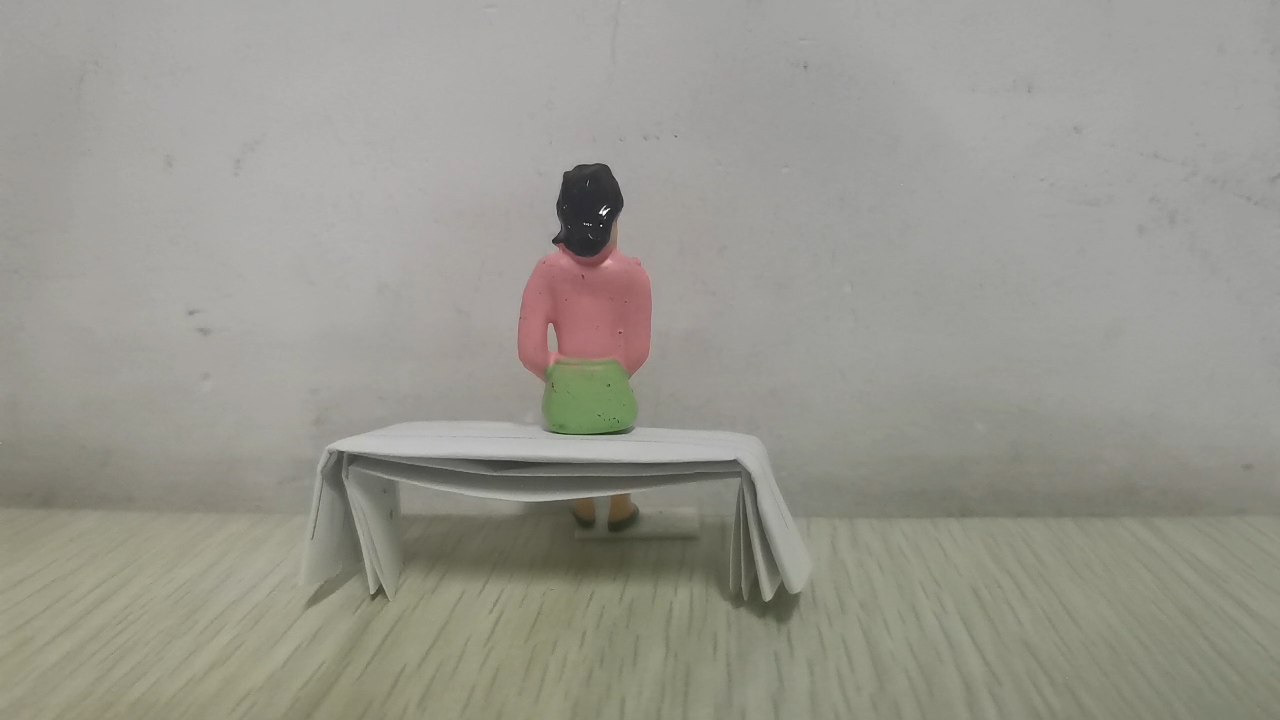person: (519, 162, 658, 533)
